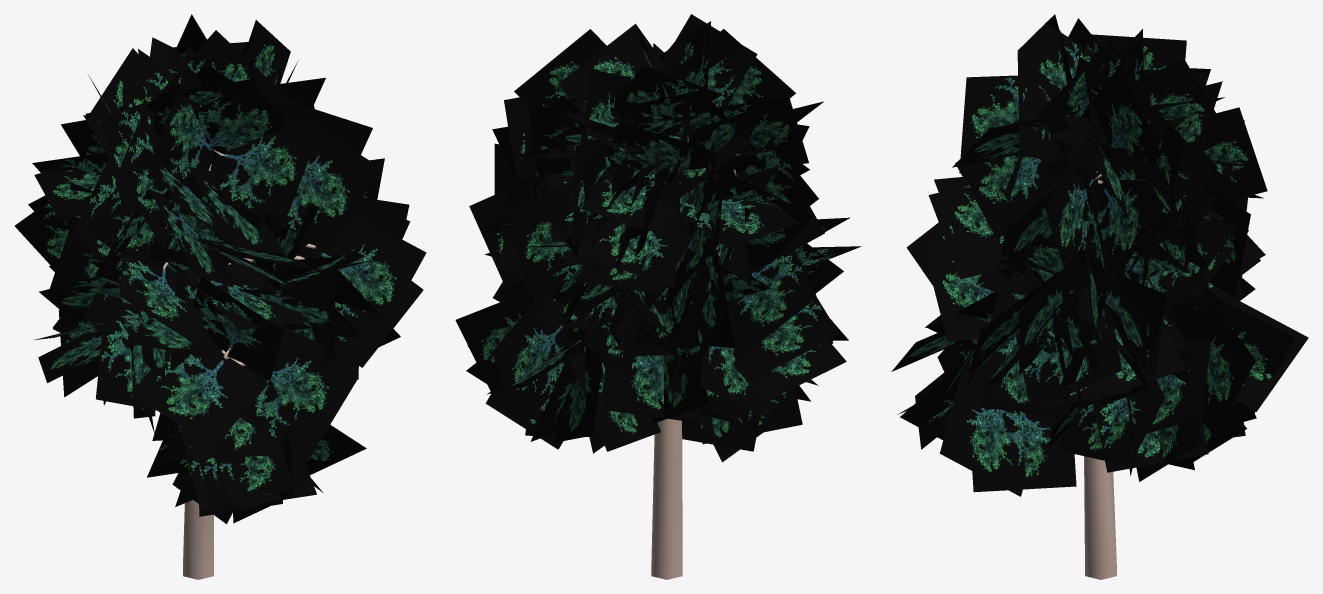
Rendered from tree.glb.
3 renders of one model, left to right at view 1: azimuth 30°, elevation 25°; view 2: azimuth 150°, elevation 25°; view 3: azimuth 270°, elevation 25°, orthographic.
Bounding box in the file's own units: 4.37 × 6.21 × 4.32.
2 materials, 1 textured.
